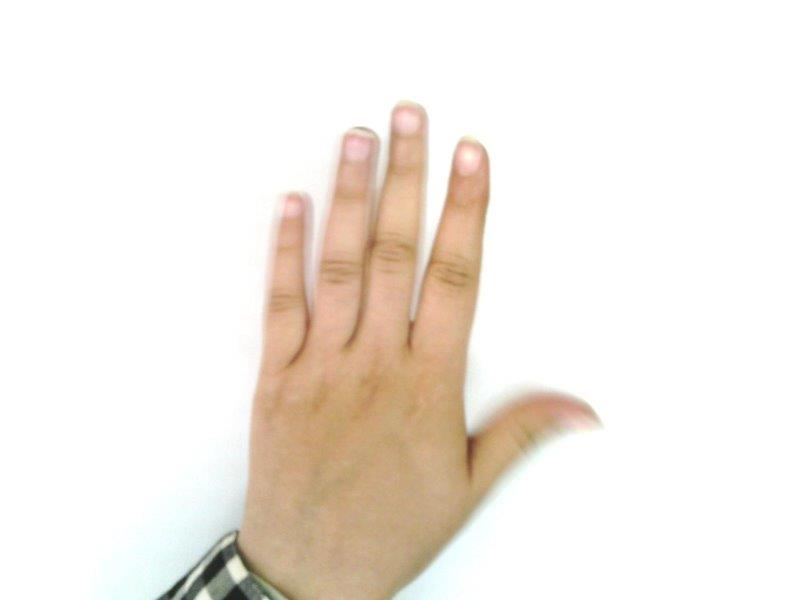hand: (251, 104, 601, 575)
